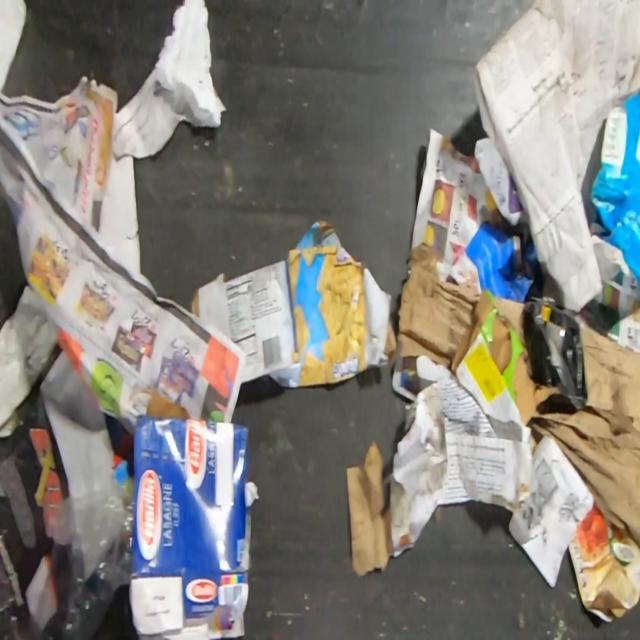cardboard: (0, 281, 116, 639), (128, 389, 260, 640), (448, 288, 560, 426), (189, 256, 305, 388), (588, 84, 640, 288), (567, 501, 640, 624), (519, 294, 589, 412), (361, 265, 399, 369)
soft_plastic: (2, 474, 133, 640)
